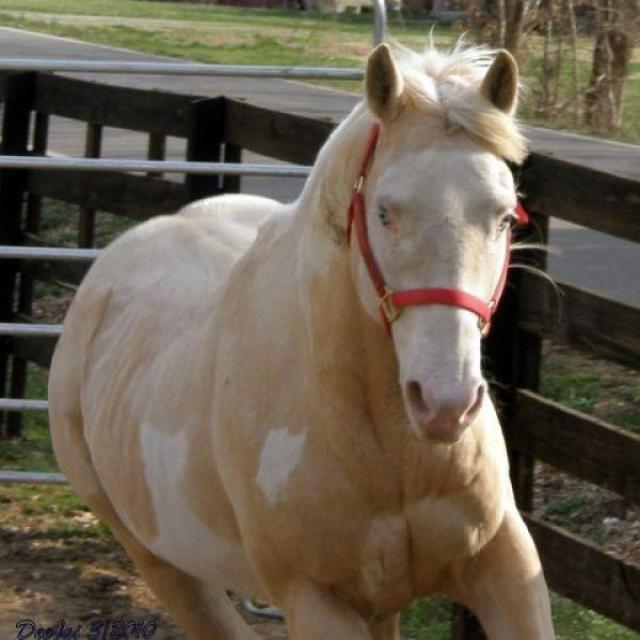horse: (46, 25, 559, 639)
